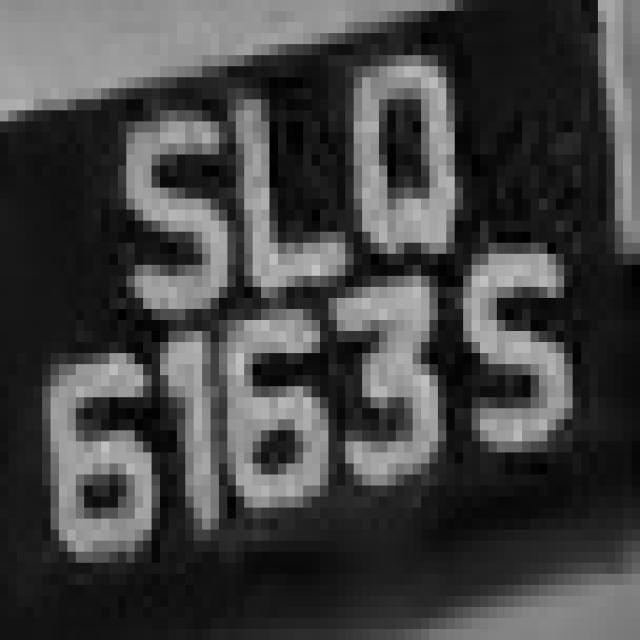1: (144, 276, 228, 585)
3: (337, 242, 455, 518)
6: (8, 342, 160, 607), (202, 287, 337, 541)
L: (211, 44, 362, 320)
Q: (312, 22, 488, 276)
S: (438, 210, 589, 474), (110, 77, 228, 331)
